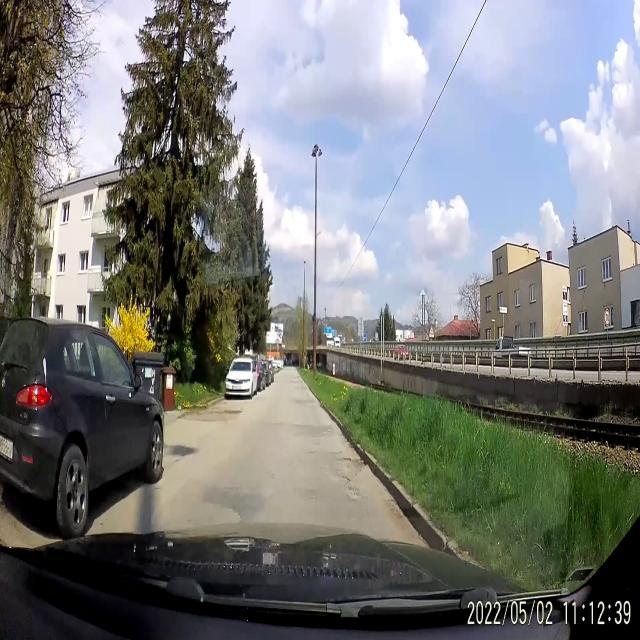Pothole: (330, 448, 364, 505)
